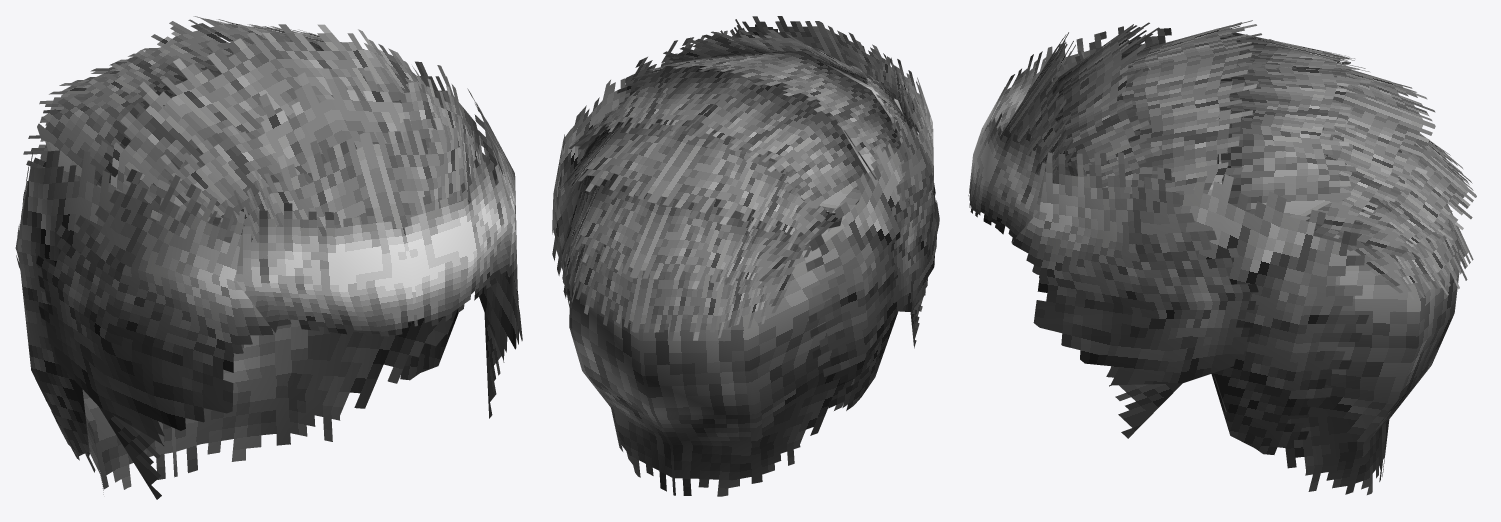
The model's file is f_body009.glb.
3 views of the same model, side by side, from view 1: azimuth 30°, elevation 25°; view 2: azimuth 150°, elevation 25°; view 3: azimuth 270°, elevation 25° (orthographic). The views are drawn at different scales.
Size of the model in its own units: 19.23 by 22.47 by 23.38.
1 material, 1 textured.
